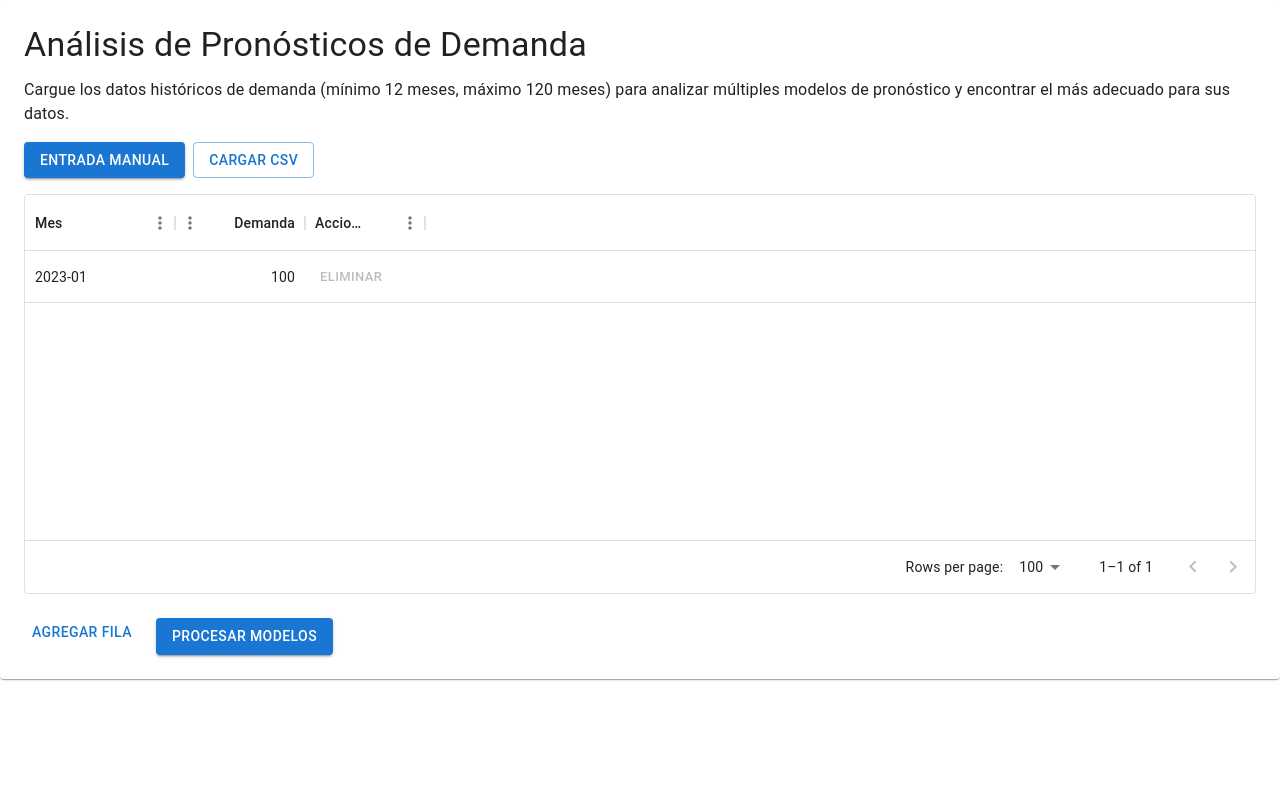
Test: Mobile Usability Tests › Touch Interactions and Usability › Data grid is functional
Expected: the text "Mes" is shown, [35,215,62,231]
Expected: the text "Demanda" is shown, [234,215,295,231]
// Add row functionality should work
Click the button "Agregar Fila". click: (82, 633)
box: [24,614,140,651]
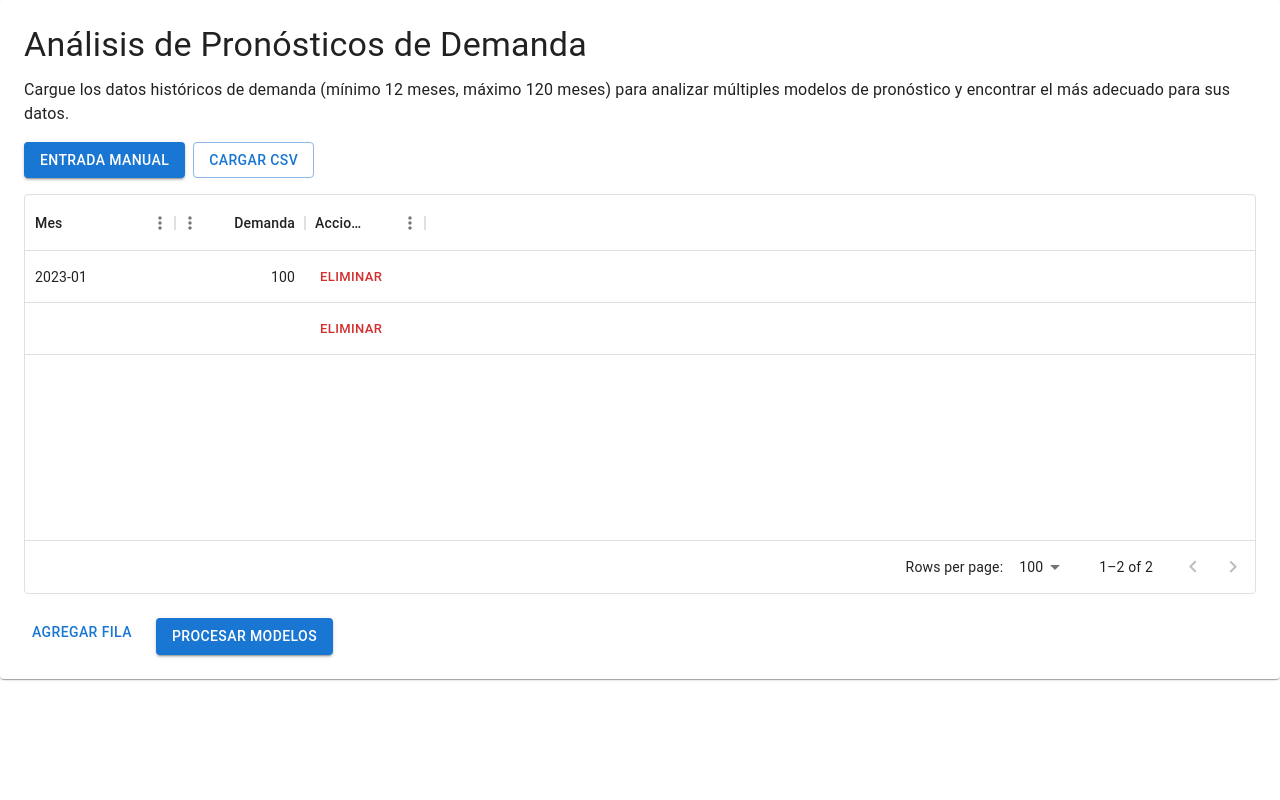
Expected: the number of buttons "Eliminar" is 2
// Delete functionality should work
Click the 2nd button "Eliminar". click: (351, 329)
box: [315,314,387,344]
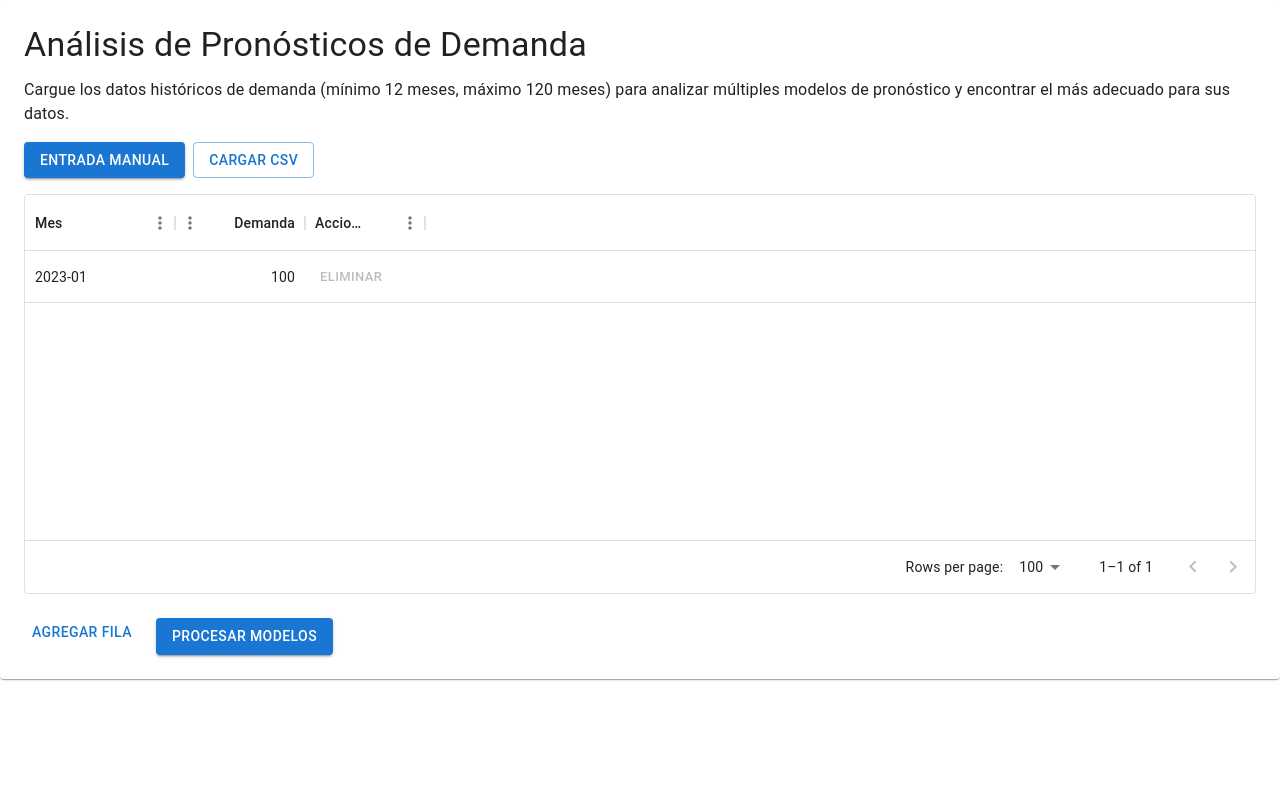
Expected: the number of buttons "Eliminar" is 1, [315,262,387,292]
